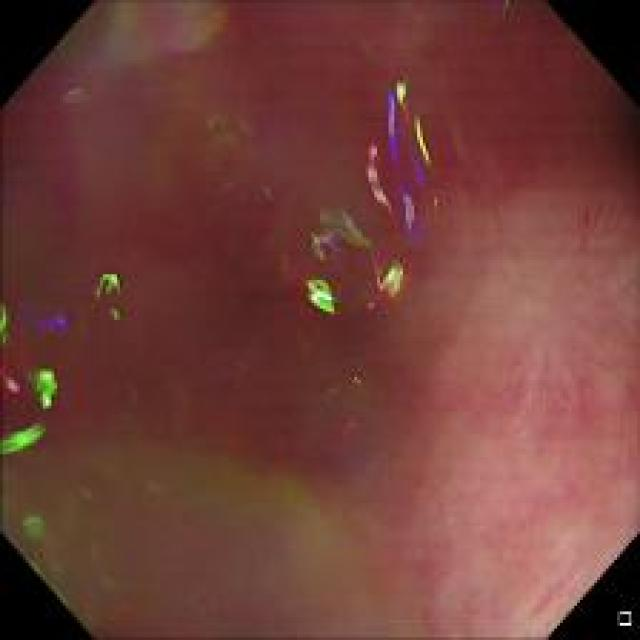color misalignment: (4, 434, 120, 621), (66, 0, 222, 96), (290, 209, 412, 325), (364, 79, 441, 251), (1, 300, 70, 466), (88, 269, 141, 326), (200, 111, 246, 154)
